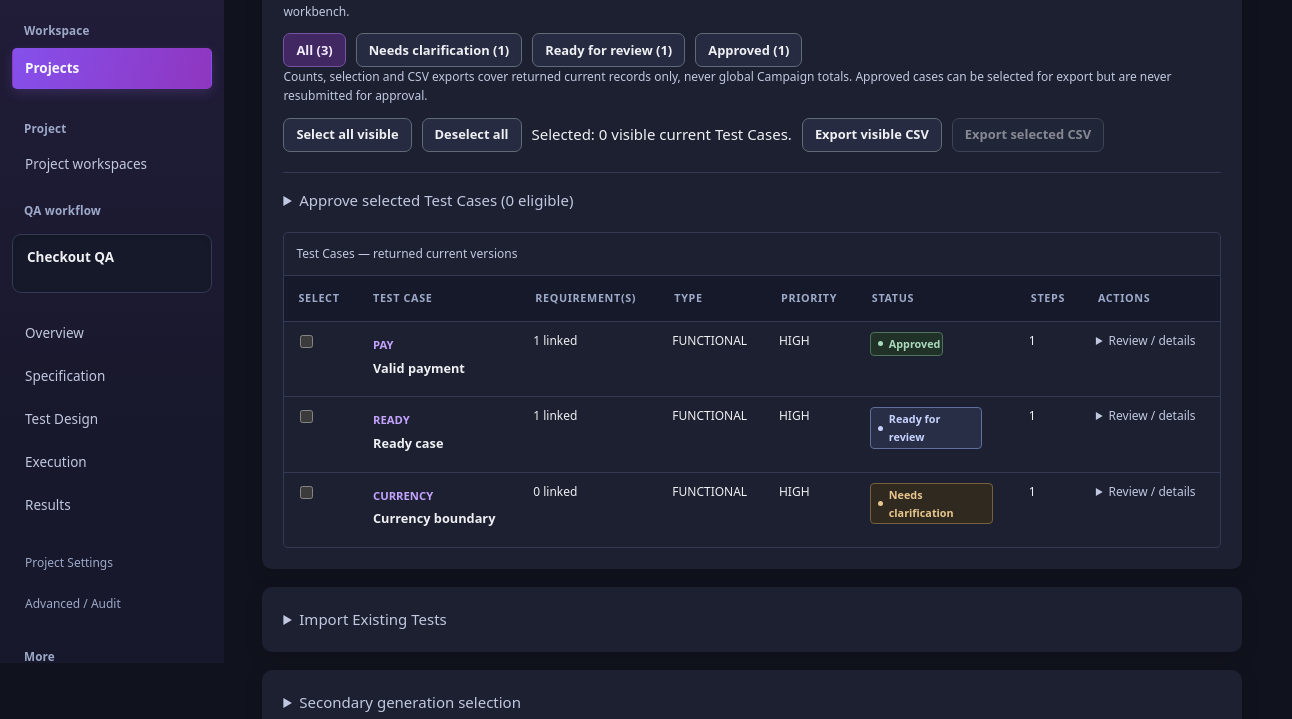
Scenario: Test Cases current workspace › renders structured details and reads review evidence only on explicit button
This screenshot has width=1292, height=719.
(page scrolled)
Check: the table is shown, box [284, 233, 1221, 547]
Click the column heading "PAY Valid payment". click: (440, 359)
box: [359, 322, 521, 397]
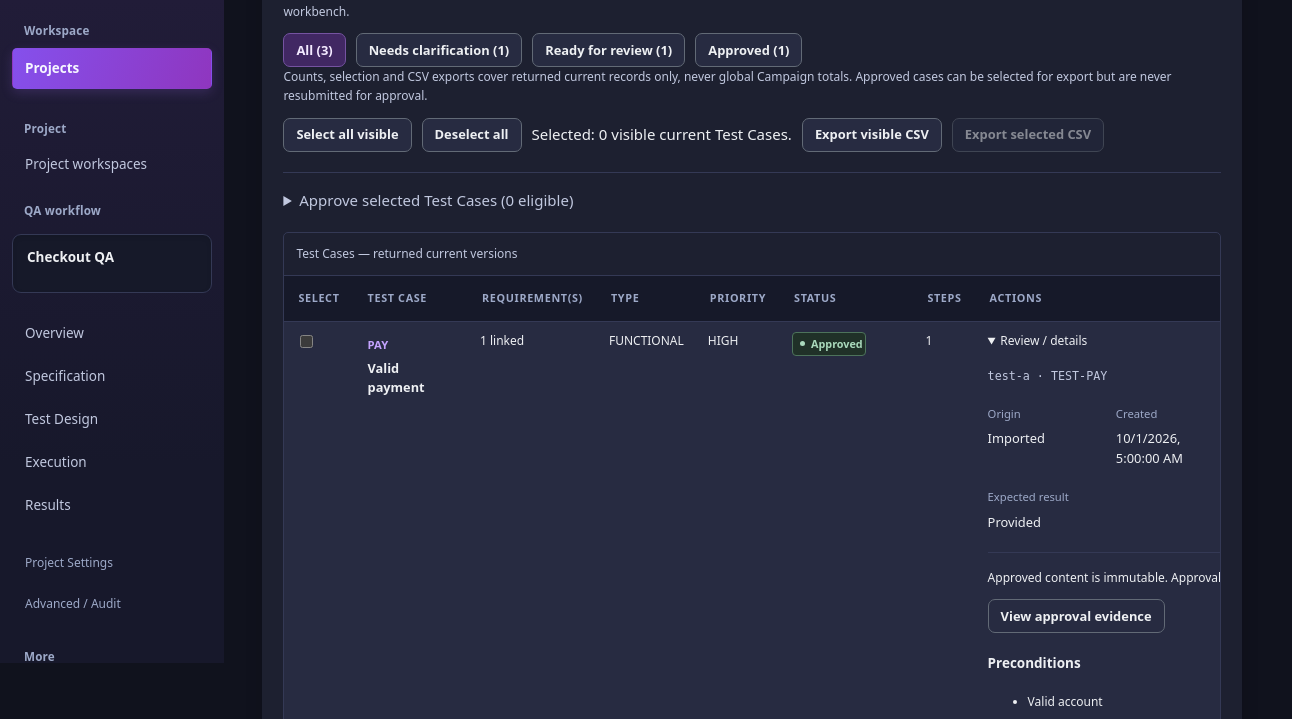
Click the button "View approval evidence". click: (1076, 616)
box: [988, 599, 1165, 633]
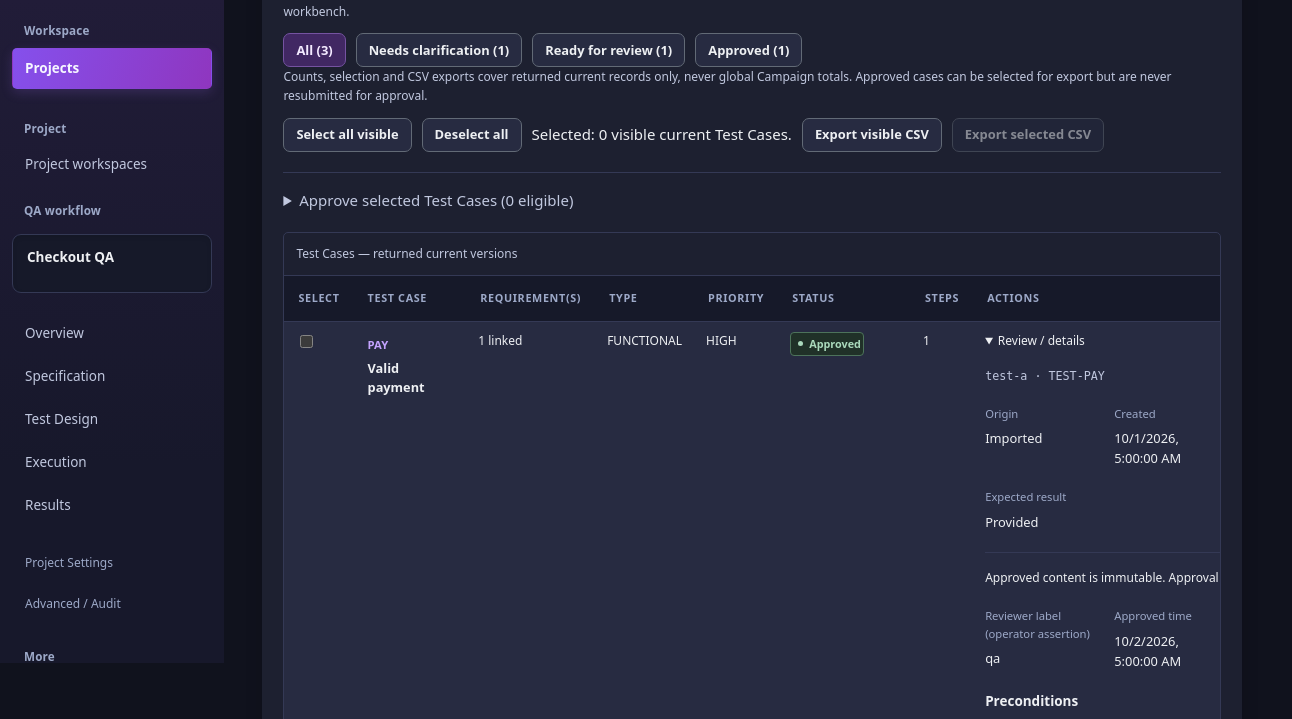
Check: the text "Reviewer label (operator assertion)" is shown, box [985, 607, 1094, 642]
